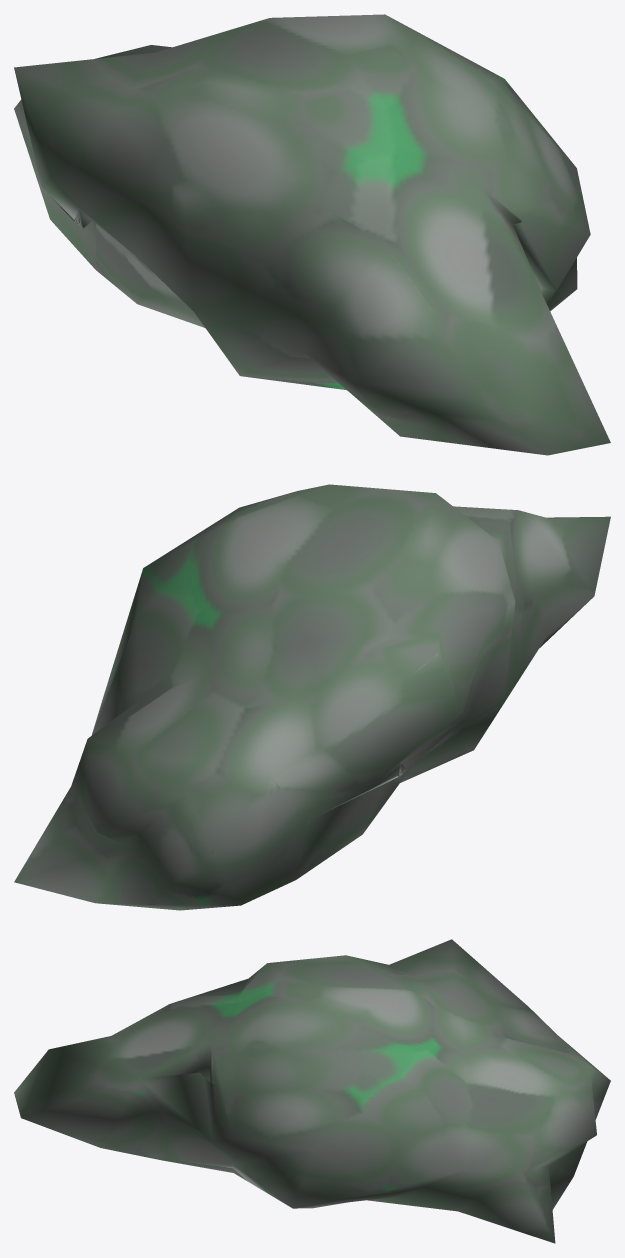
File: my_mesh_rock SubTool3.glb
The picture shows the model from 3 angles, top to bottom: view 1: azimuth 30°, elevation 25°; view 2: azimuth 150°, elevation 25°; view 3: azimuth 270°, elevation 25°; orthographic projection. The views are drawn at different scales.
Parts seen in each view (by area): view 1: rock SubTool3; view 2: rock SubTool3; view 3: rock SubTool3.
Boxes of the visible parts, box(x1,y1,x2,y2) form: rock SubTool3: box(14, 14, 610, 455); rock SubTool3: box(14, 484, 610, 910); rock SubTool3: box(14, 939, 610, 1243).
Bounding box in the file's own units: 6.82 × 5.14 × 12.87.
Materials: 1 (1 with a texture image).
